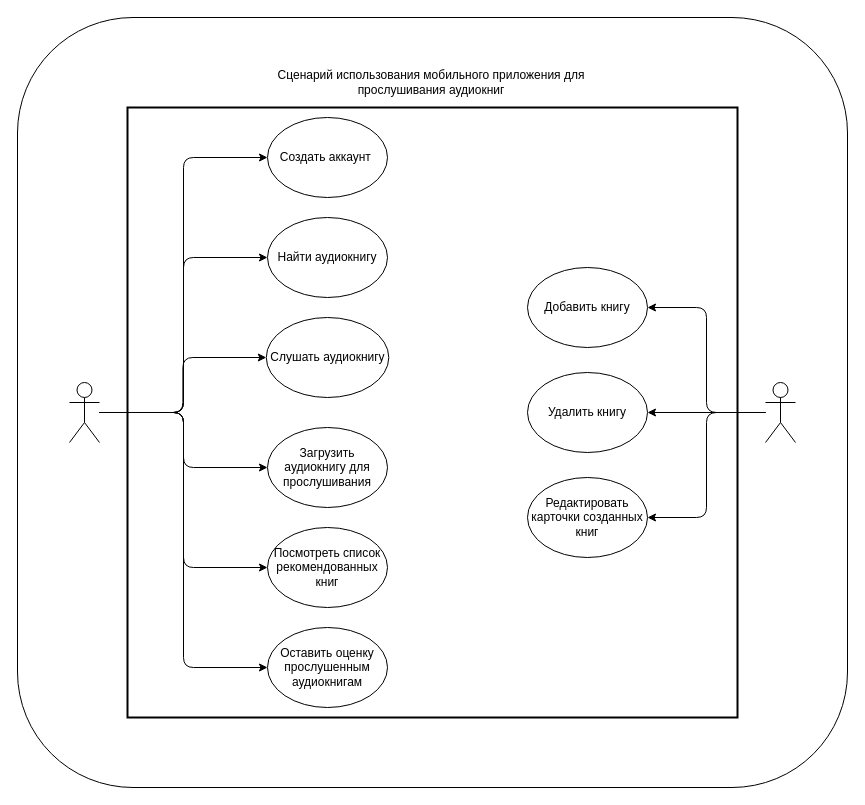
The diagram is 865 pixels wide and 805 high, and some of its shapes have lost their labels. The centre of each missing label's shape, as x and y in pixels:
"Администратор" goes at [780,412].
"Пользователь" goes at [84,412].
